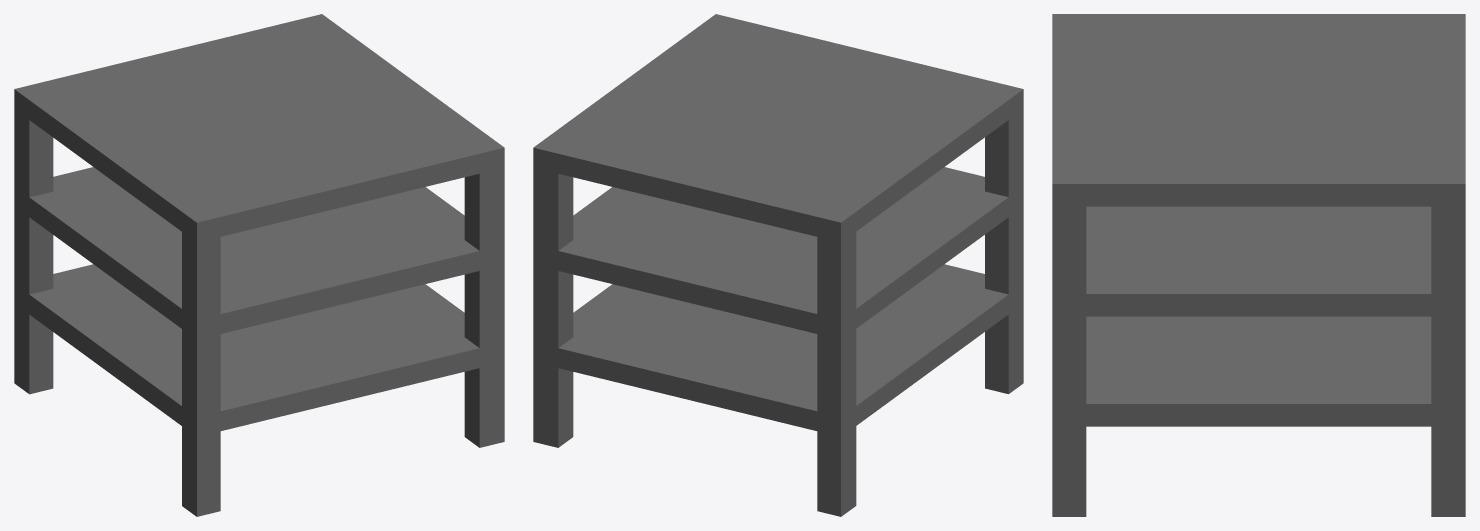
The model's file is Square Counter.fbx.
The picture shows the model from 3 angles, left to right: view 1: azimuth 30°, elevation 25°; view 2: azimuth 150°, elevation 25°; view 3: azimuth 270°, elevation 25°; orthographic projection. The views are drawn at different scales.
Visible parts, largest first — view 1: Square Counter; view 2: Square Counter; view 3: Square Counter.
Boxes of the visible parts, box(x1,y1,x2,y2) form: Square Counter: box(14, 14, 504, 516); Square Counter: box(533, 14, 1023, 516); Square Counter: box(1052, 14, 1465, 516).
Size of the model in its own units: 66.51 by 60.76 by 68.34.
